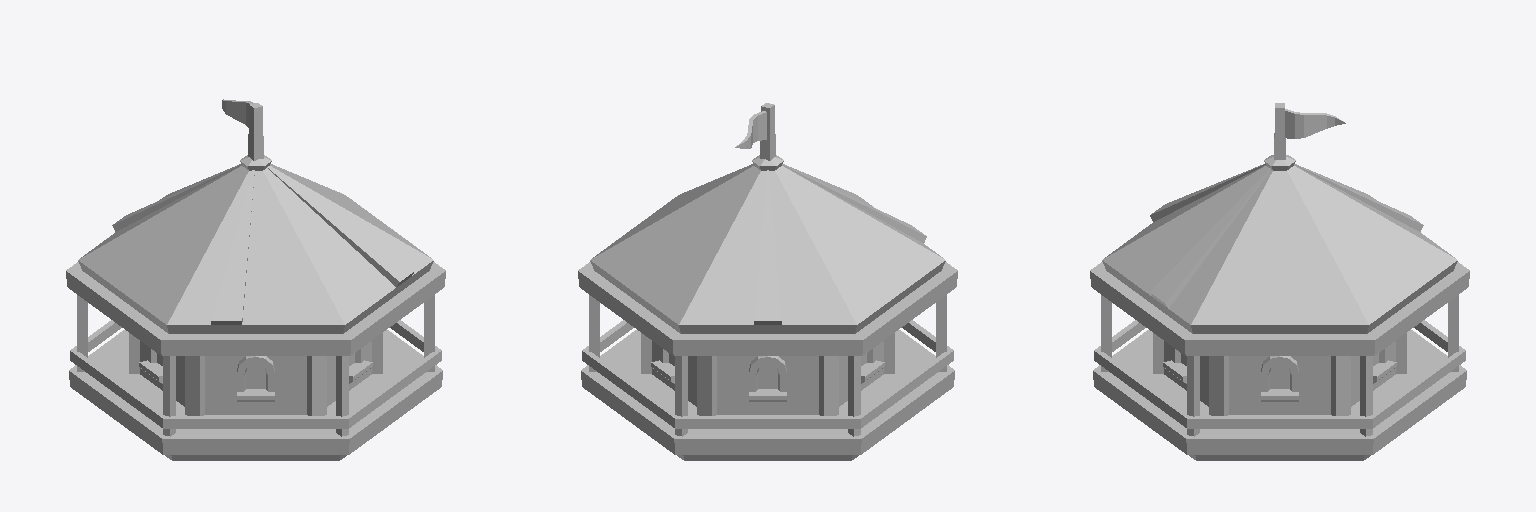
File: building_tower_B_red_building_tower_B_top_red.obj
3 views of the same model, side by side, from view 1: azimuth 30°, elevation 25°; view 2: azimuth 150°, elevation 25°; view 3: azimuth 270°, elevation 25° (orthographic).
Parts seen in each view (by area): view 1: building_tower_B_top_red; view 2: building_tower_B_top_red; view 3: building_tower_B_top_red.
Boxes of the visible parts, box(x1,y1,x2,y2) form: building_tower_B_top_red: box(66, 99, 445, 460); building_tower_B_top_red: box(578, 103, 957, 460); building_tower_B_top_red: box(1090, 103, 1469, 460).
Bounding box in the file's own units: 1.2 × 1.21 × 1.38.